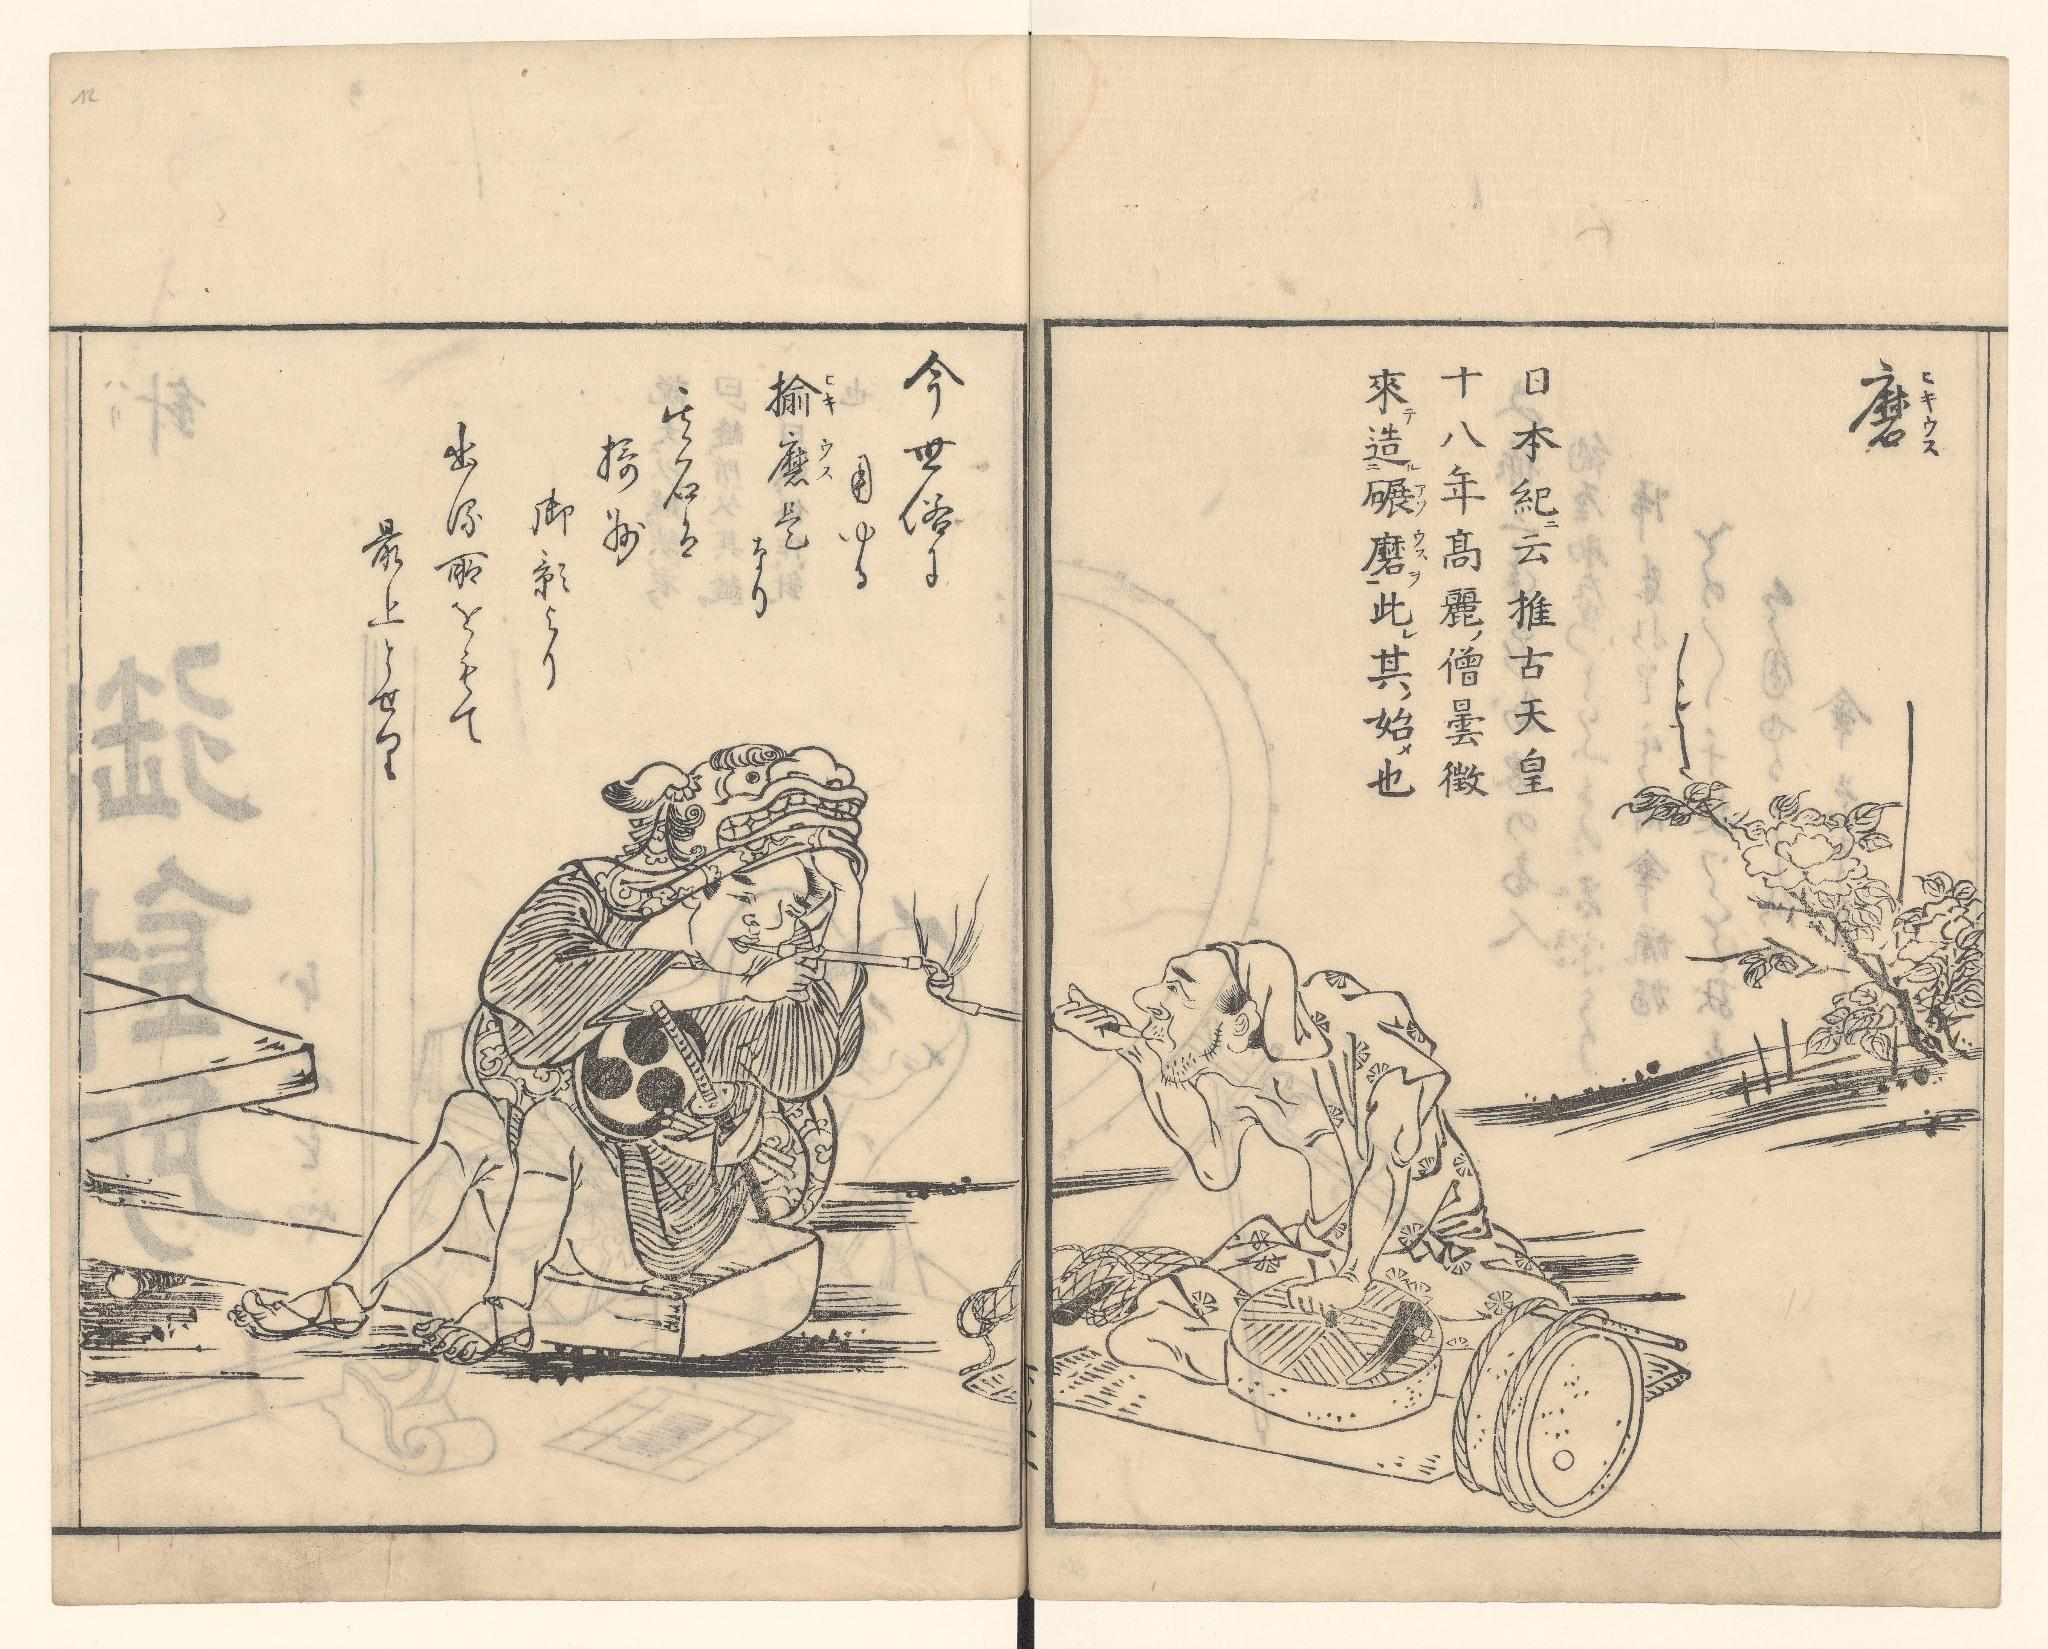MainZone-Character: (1848, 352, 1949, 469), (764, 432, 838, 495), (1363, 523, 1429, 592), (764, 367, 840, 421), (1360, 367, 1417, 426), (1361, 478, 1434, 518)
MainZone-Ruby: (1917, 369, 1942, 458), (1407, 528, 1427, 589), (813, 436, 835, 483), (821, 370, 840, 417), (1412, 481, 1429, 517), (1402, 409, 1417, 427)
